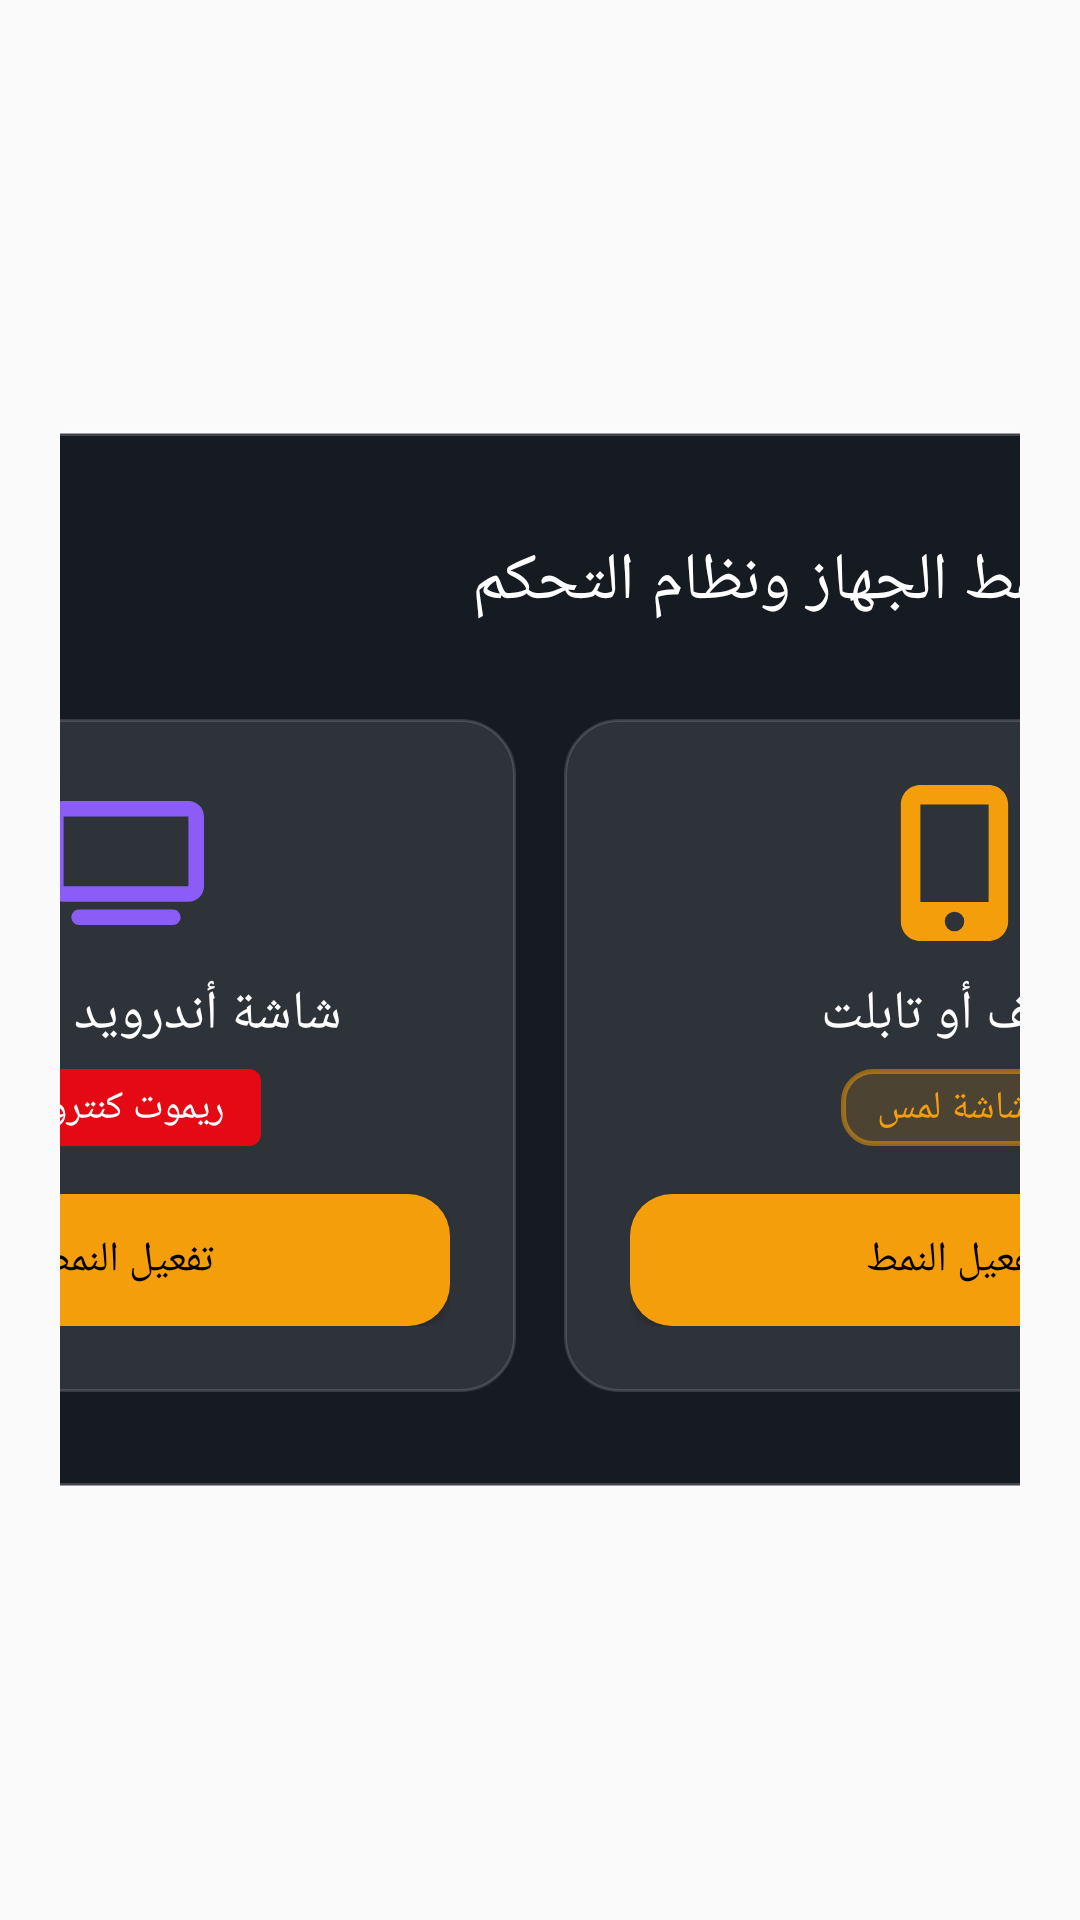

Locate icon controls on the screen. Image size 1080w x 1920h, boxes as detection(x1, y1, x2, y2).
mobile screen: detection(900, 785, 1009, 941)
